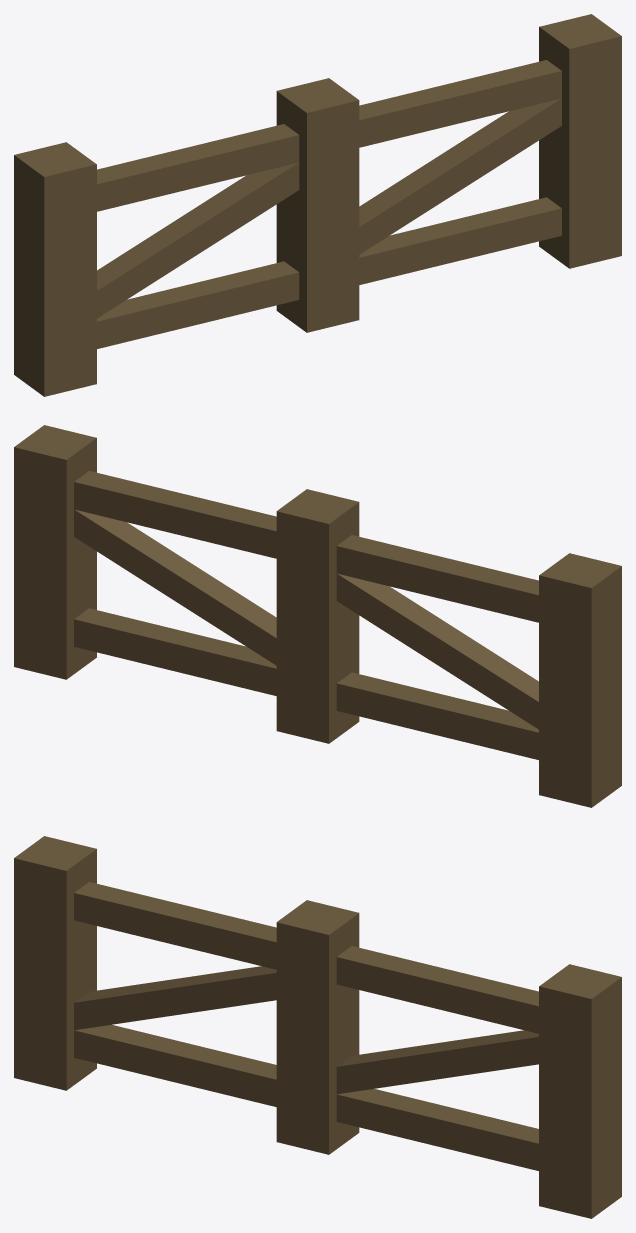
Rendered from roman_fence_wood_1.fbx.
The picture shows the model from 3 angles, top to bottom: view 1: azimuth 30°, elevation 25°; view 2: azimuth 150°, elevation 25°; view 3: azimuth 330°, elevation 25°; orthographic projection.
Visible parts, largest first — view 1: Cube.023; view 2: Cube.023; view 3: Cube.023.
Part boxes in pixels (x1,y1,x2,y2): Cube.023: (14,14,621,396); Cube.023: (14,425,621,807); Cube.023: (14,836,621,1218).
Size of the model in its own units: 3.3 by 1.2 by 0.3.
